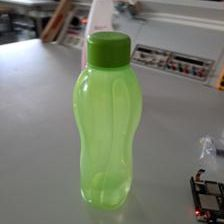bottle: (67, 29, 146, 209)
